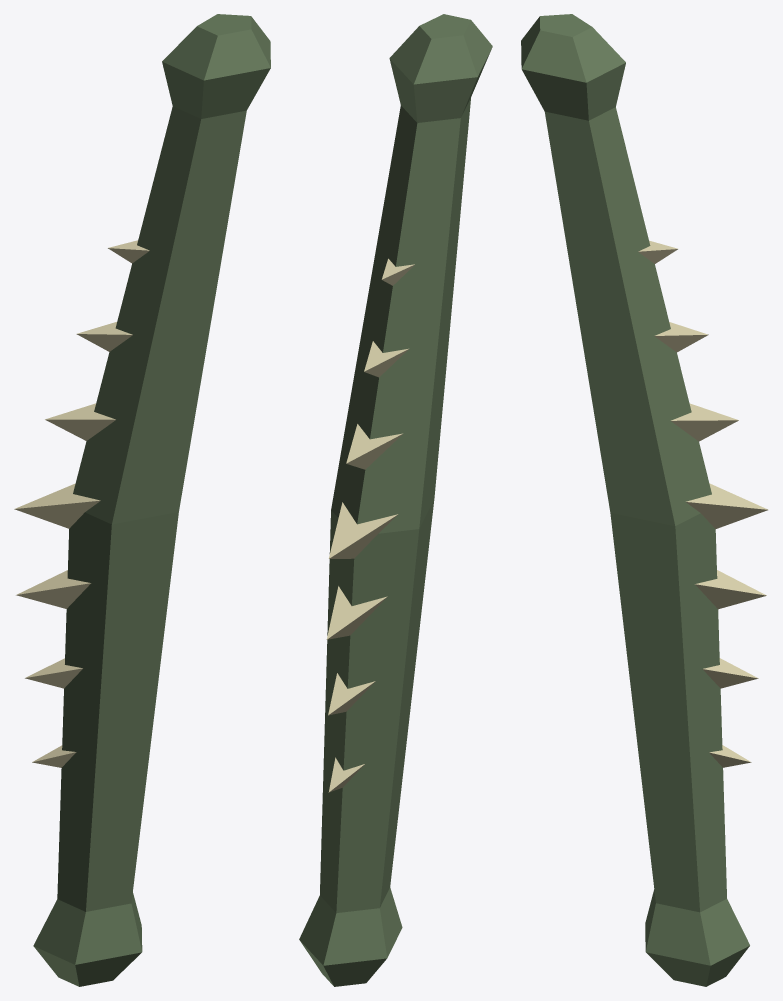
The model's file is LarvaeLegLowerLF.fbx.
3 renders of one model, left to right at view 1: azimuth 90°, elevation 25°; view 2: azimuth 150°, elevation 25°; view 3: azimuth 270°, elevation 25°, orthographic. The views are drawn at different scales.
Visible parts, largest first — view 1: Forearm7; view 2: Forearm7; view 3: Forearm7.
Boxes of the visible parts, bbox=[...] form: Forearm7: bbox=[14, 14, 270, 986]; Forearm7: bbox=[299, 14, 492, 986]; Forearm7: bbox=[521, 14, 768, 986].
Bounding box in the file's own units: 0.9641 × 7.13 × 1.71.
